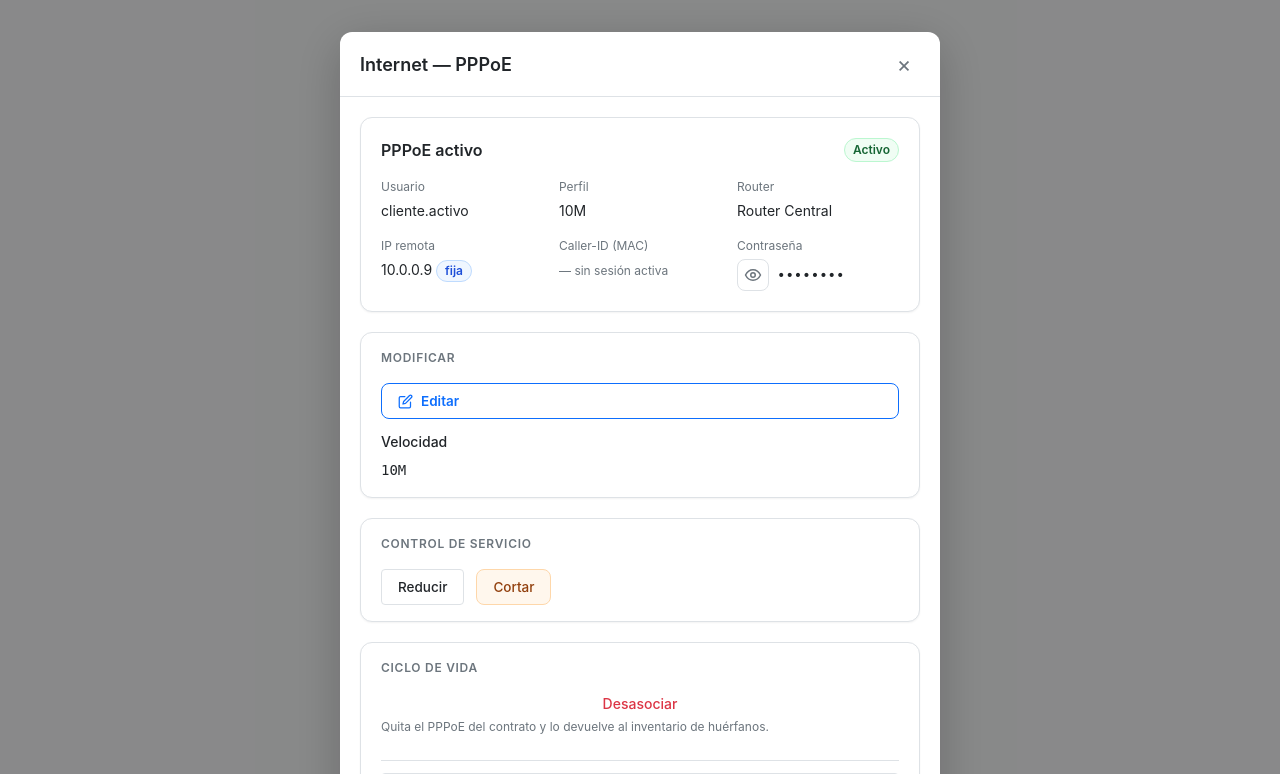
RV-2: click en el ojo revela el password › al click pasa enabled=true y muestra el password resuelto
This screenshot has width=1280, height=774.
Click the button named "Mostrar contraseña": (753,275) [737, 259, 769, 291]
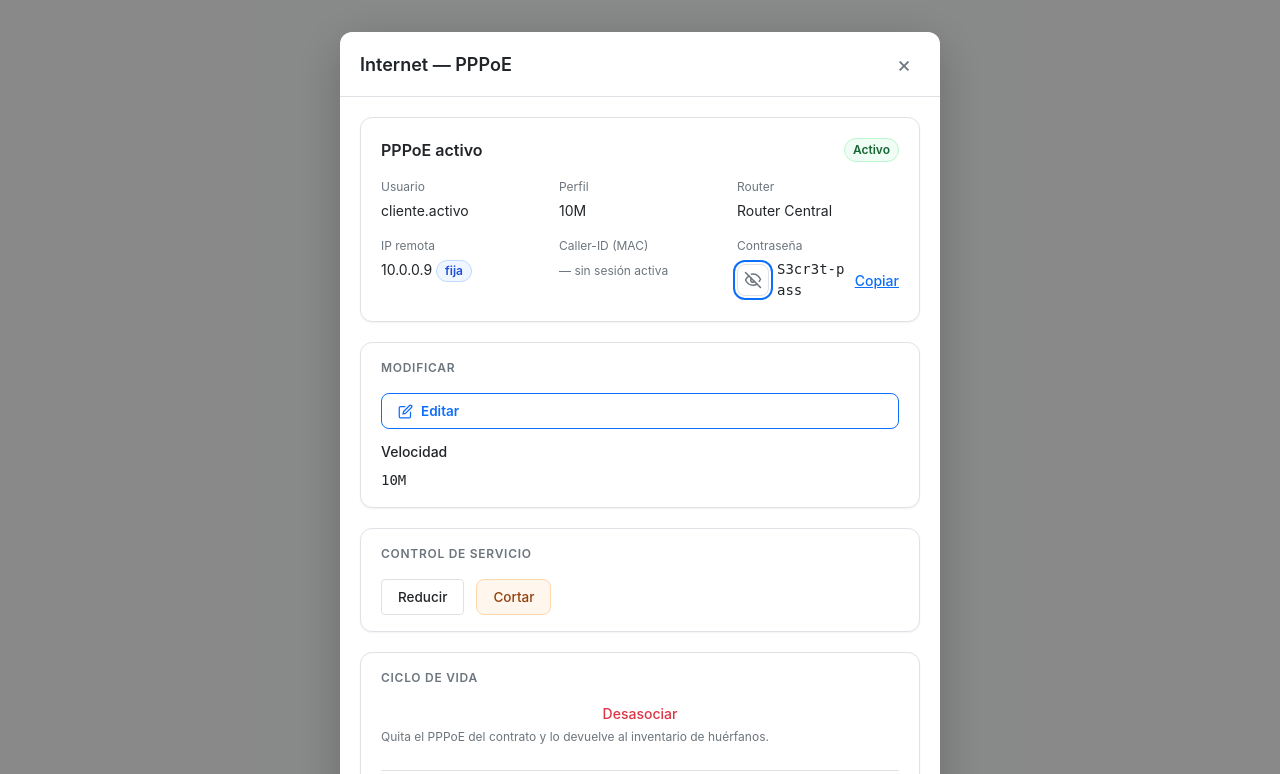
Now the text "S3cr3t-pass" is shown, box [777, 259, 847, 301]
